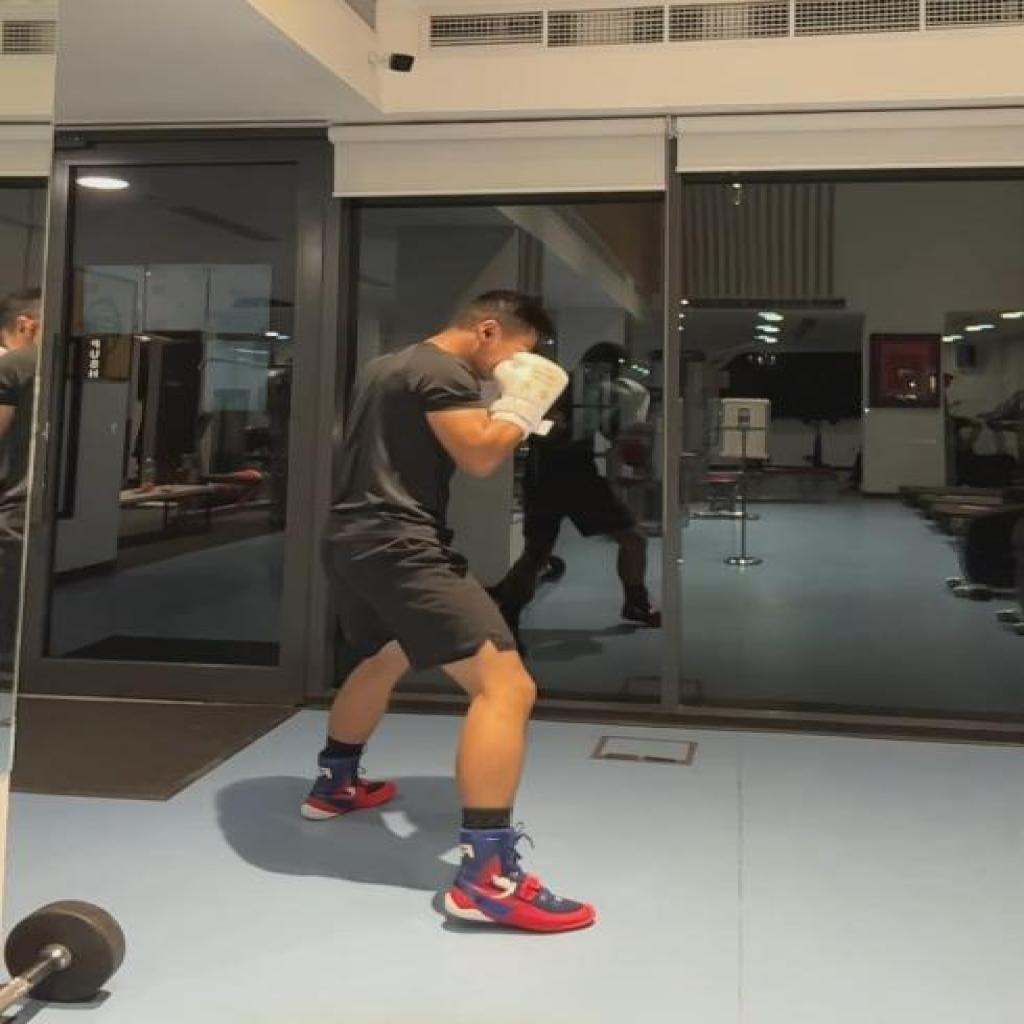no punch: (295, 291, 604, 939)
